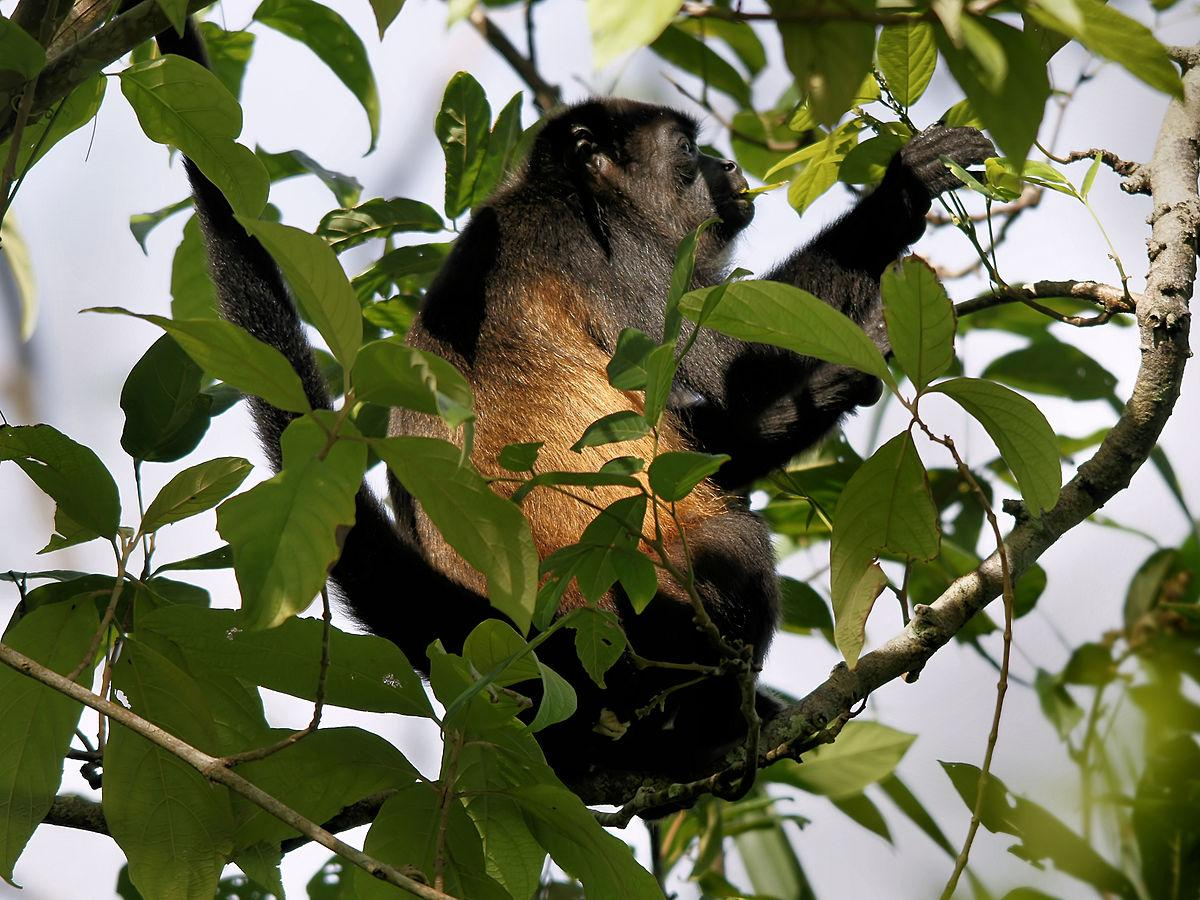monkey: (409, 97, 887, 748), (760, 126, 997, 348)
